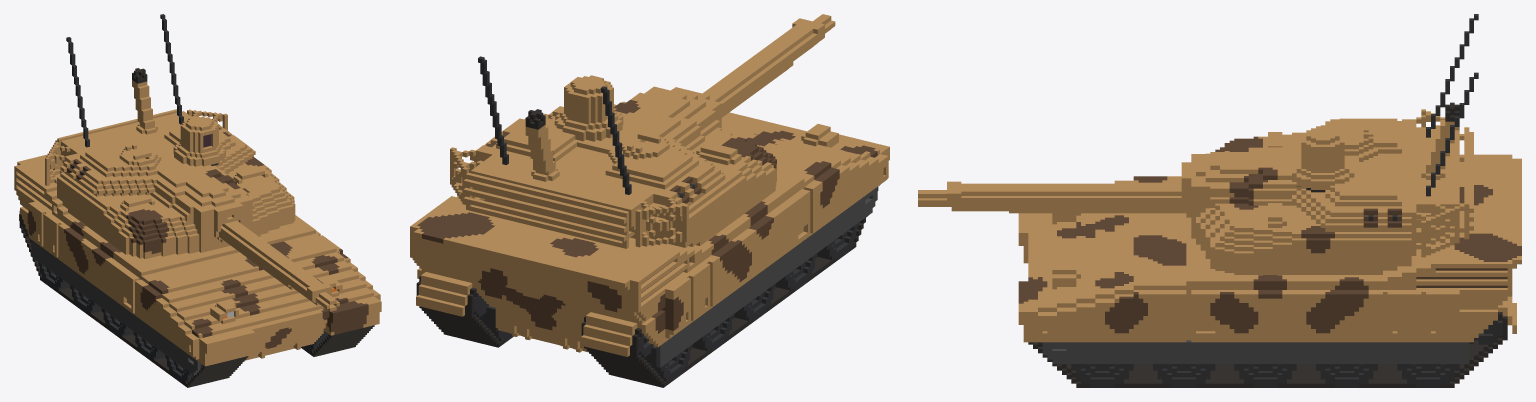
The model's file is CharLeclerc.obj.
3 renders of one model, left to right at view 1: azimuth 30°, elevation 25°; view 2: azimuth 150°, elevation 25°; view 3: azimuth 270°, elevation 25°, orthographic. The views are drawn at different scales.
Bounding box in the file's own units: 5.8 × 6.7 × 12.6.
1 material, 1 textured.
